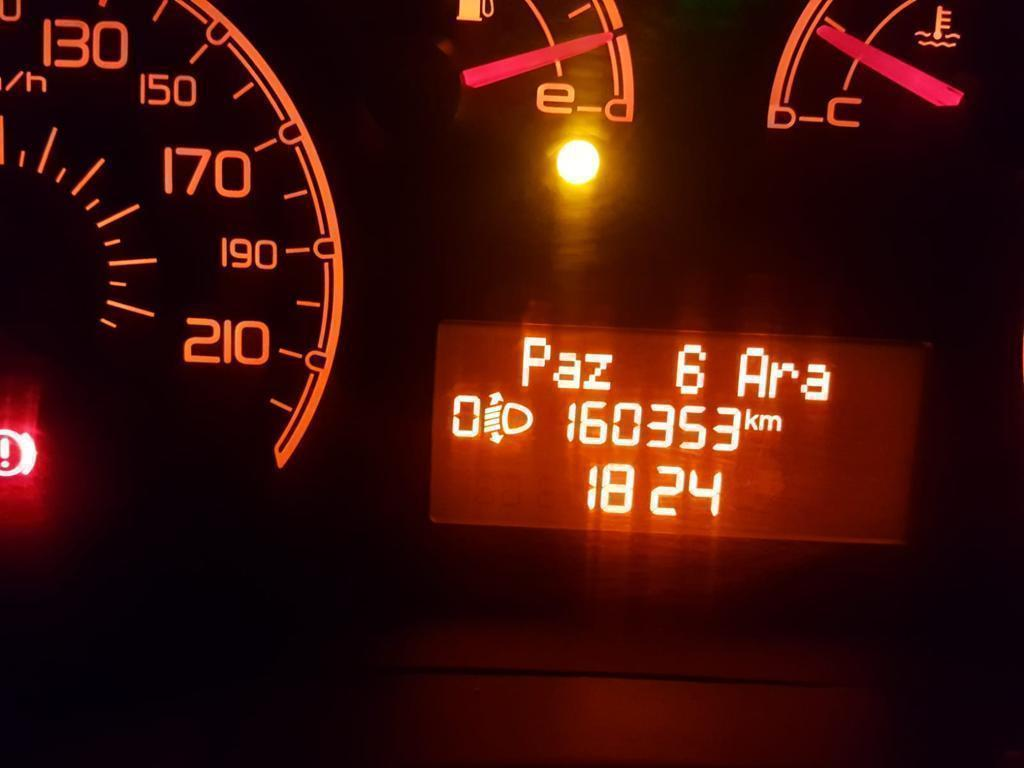0: (610, 399, 643, 448), (450, 391, 482, 440)
1: (582, 459, 598, 511), (560, 399, 576, 445)
2: (647, 462, 685, 518)
3: (645, 400, 676, 451), (710, 404, 742, 453)
4: (688, 466, 723, 517)
5: (678, 403, 708, 451)
6: (672, 339, 709, 397), (577, 396, 609, 447)
8: (600, 460, 636, 515)
X: (517, 332, 552, 390), (734, 344, 767, 400), (799, 360, 833, 403), (581, 350, 614, 392), (768, 358, 799, 400), (552, 348, 582, 391), (759, 411, 783, 433), (743, 404, 757, 432)
odometer: (423, 314, 934, 555)
